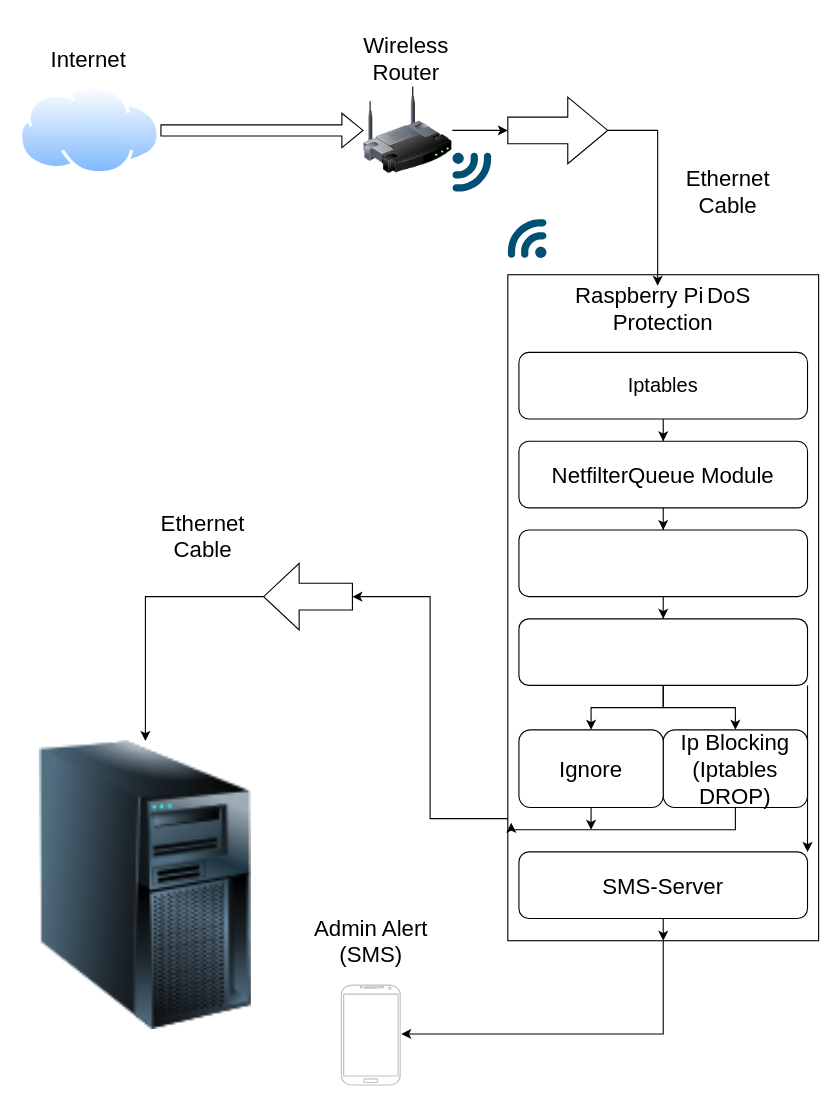
Image size: 838x1104. Some labels were removed from this diagram. The centre of each missing label's shape, as x and y in pixels:
"Detection Logic" goes at point 663,651.
"Scapy Packet Analyzer" goes at point 663,563.
